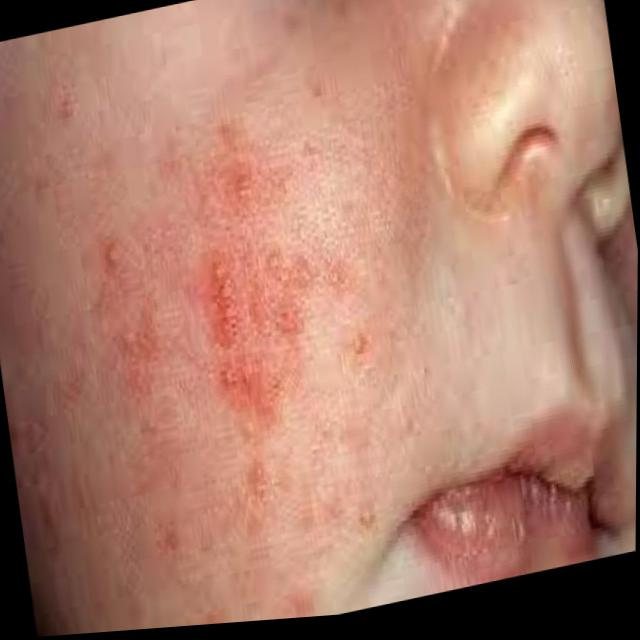Rosacea: (41, 60, 374, 569)
